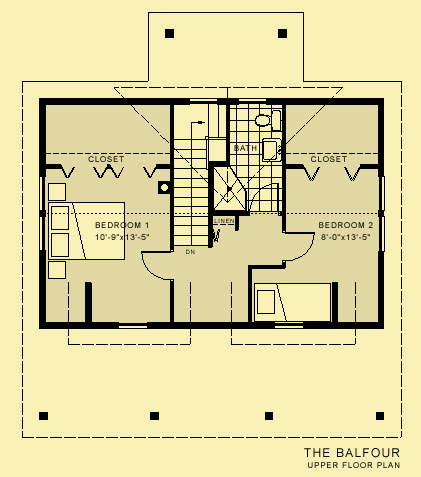bathroom has a large and small sink and shower space: (212, 104, 283, 213)
bedroom has a double bed, bedside stands and a large closet: (38, 99, 177, 330)
bedroom has a single bed: (248, 215, 385, 326)
closet inside a bedroom: (282, 101, 381, 186)
stairs to the other floors: (172, 99, 226, 255)
